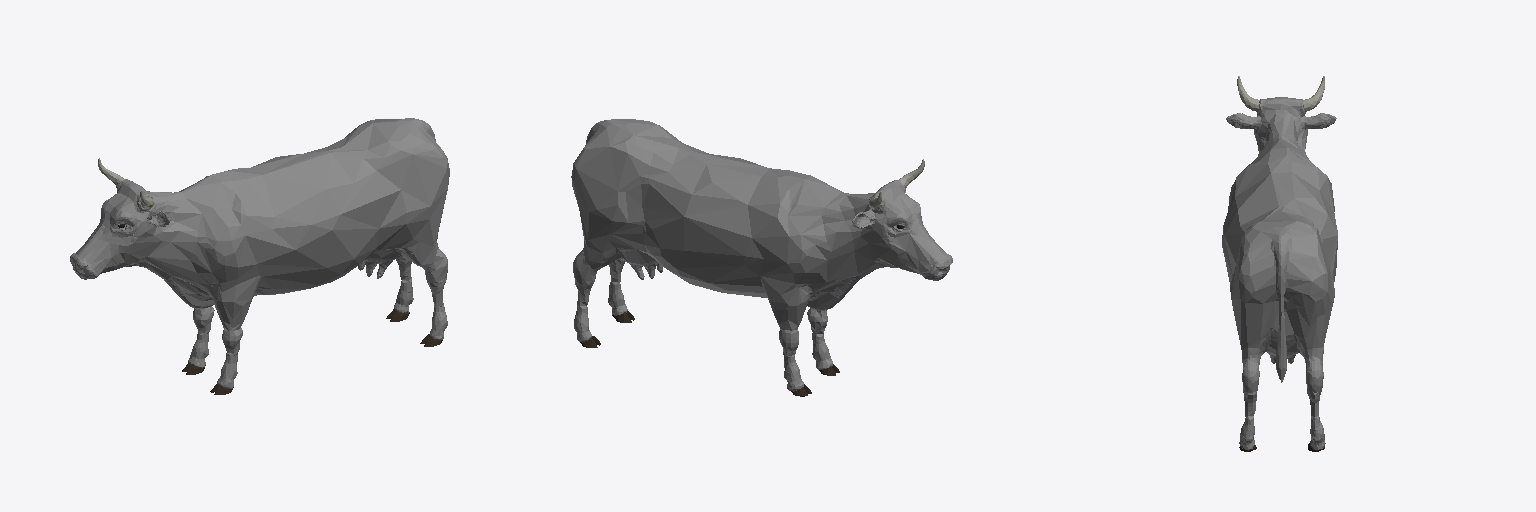
The model's file is cow.obj.
3 renders of one model, left to right at view 1: azimuth 30°, elevation 25°; view 2: azimuth 150°, elevation 25°; view 3: azimuth 270°, elevation 25°, orthographic.
Visible parts, largest first — view 1: COWBODY; view 2: COWBODY; view 3: COWBODY, COWcuern.
Part boxes in pixels (x1,y1,x2,y2): COWBODY: (70,118,449,388); COWBODY: (571,119,952,391); COWBODY: (1222,97,1337,449); COWcuern: (1237,76,1324,111).
Bounding box in the file's own units: 1.22 × 0.7314 × 0.3384.